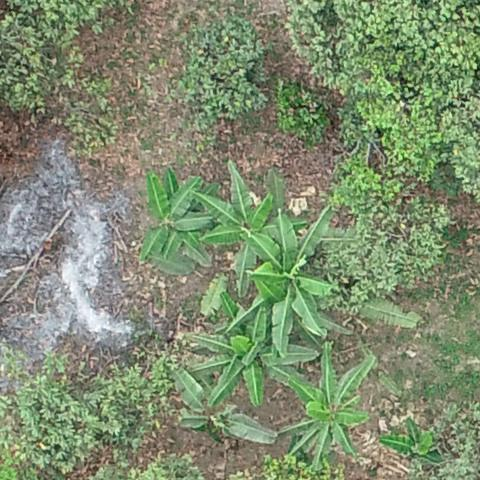Banana-plant: (248, 214, 349, 336), (156, 357, 274, 456), (192, 314, 302, 406), (204, 173, 284, 284), (139, 169, 217, 271), (377, 413, 445, 466)
